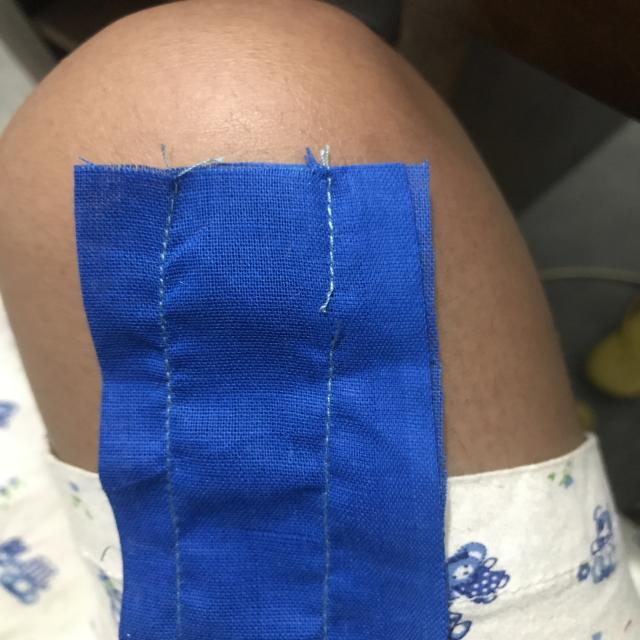broken: (280, 272, 370, 358)
good: (319, 189, 345, 260)
